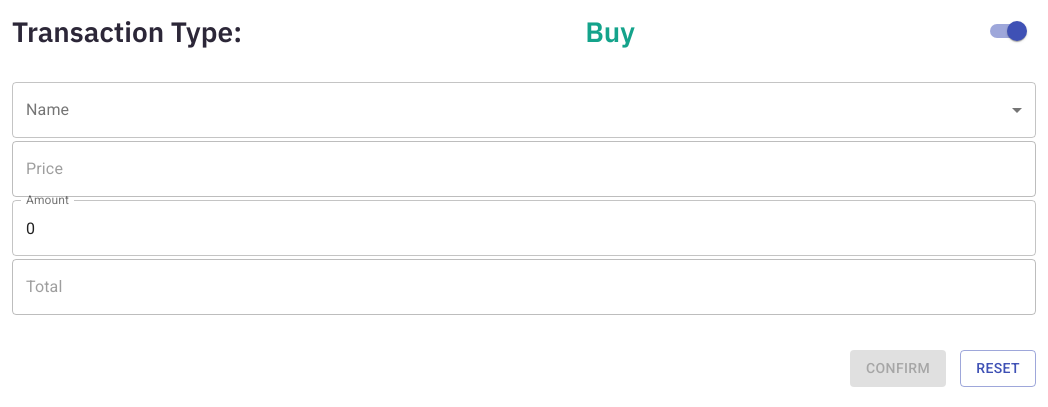
Test case: Transaction › when choose currency type › and when change amount value › should update total value
The image size is (1048, 407).
Replace the text in the field with test id "currencyName" with "BTC": (524, 110) [12,82,1036,138]
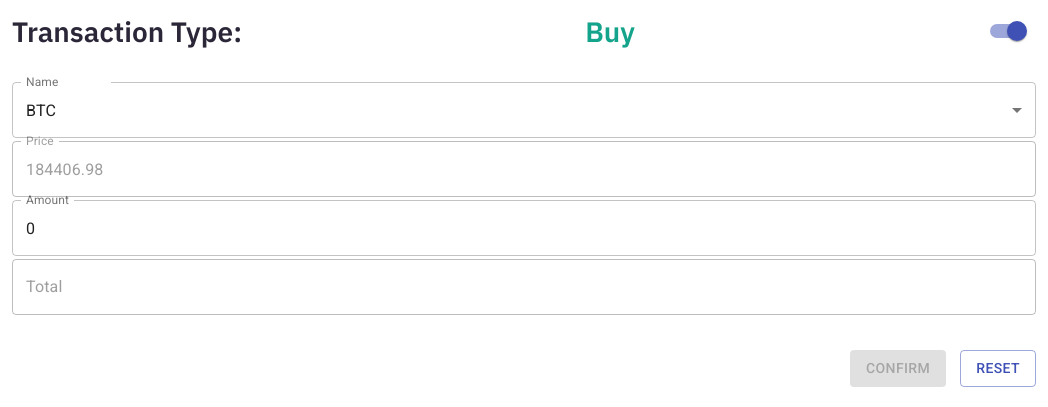
Replace the text in the number field labelled "Amount" with "15.3": (524, 228) [12,200,1036,256]
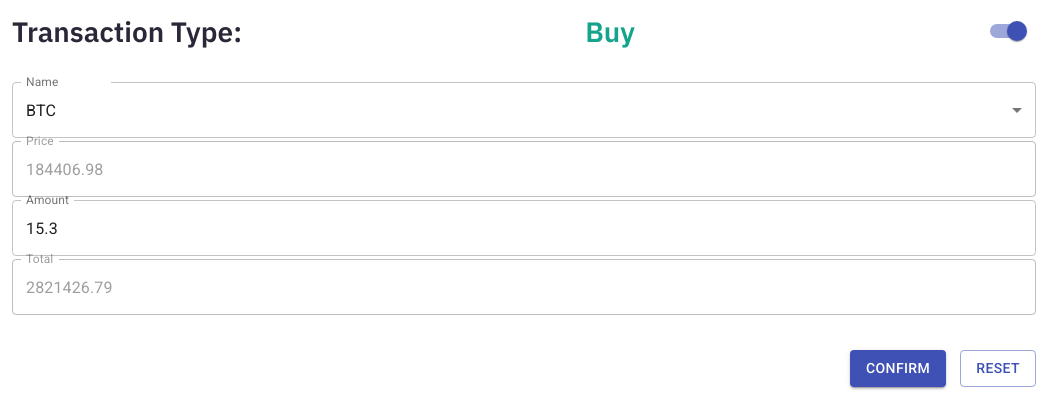
Now the field labelled "Total" holds "2821426.79", box [12,259,1036,315]
